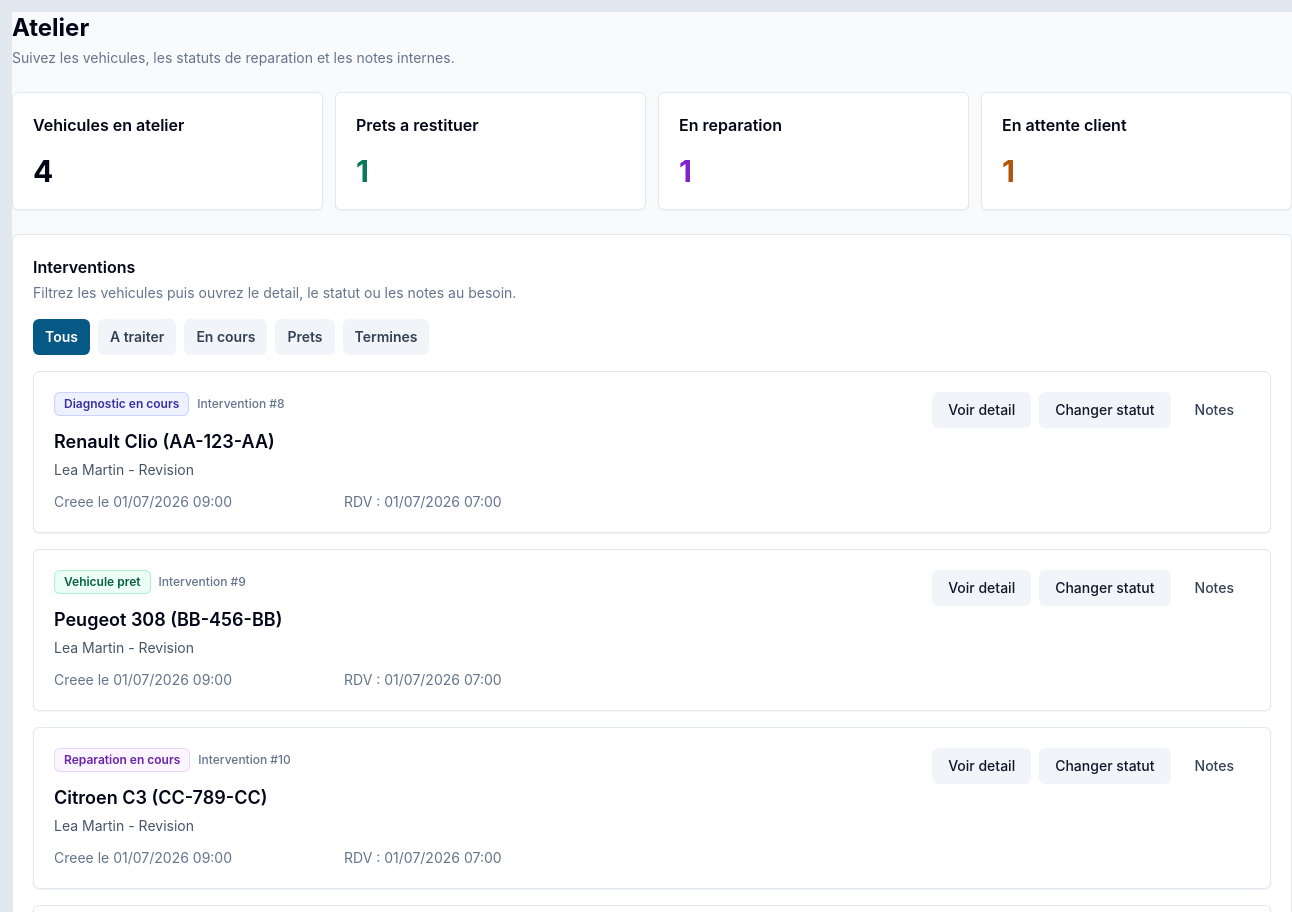
Scenario: InterventionsPage › ouvre le panneau de changement de statut au clic
Click the button "Changer statut" in the row of "Diagnostic en cours".
click(1105, 410)  # box [1039,392,1171,428]
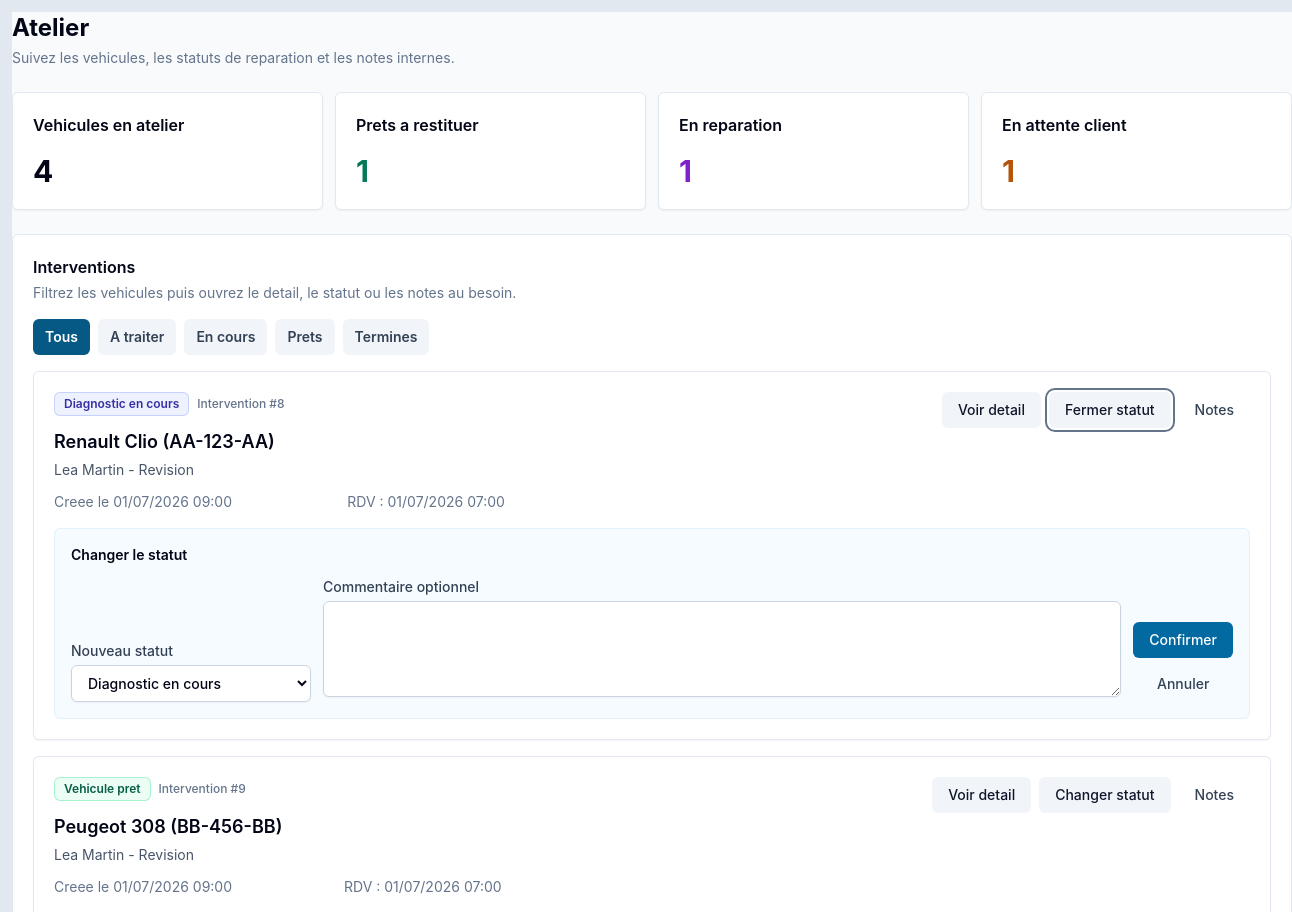
Expected: the dropdown labelled "Nouveau statut" is shown, [71,665,311,702]
Expected: the text box labelled "Commentaire optionnel" is shown, [323,601,1121,697]
